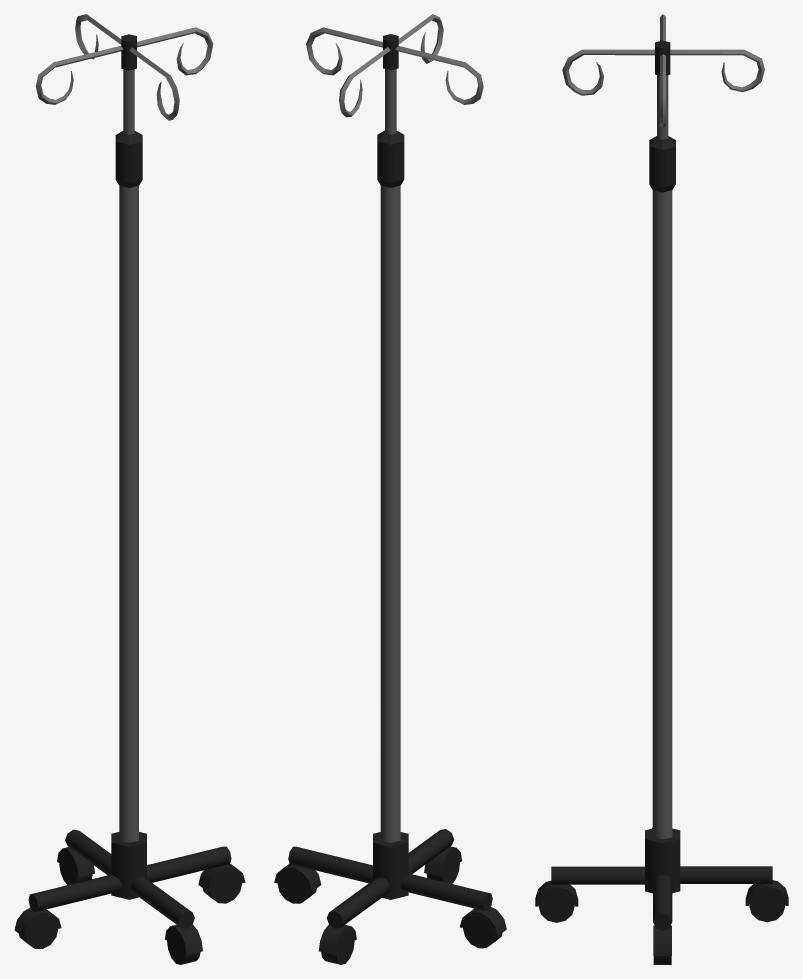
The model's file is infusion stand.FBX.
The picture shows the model from 3 angles, left to right: view 1: azimuth 30°, elevation 25°; view 2: azimuth 150°, elevation 25°; view 3: azimuth 270°, elevation 25°; orthographic projection.
Visible parts, largest first — view 1: infusion stand; view 2: infusion stand; view 3: infusion stand.
Boxes of the visible parts, <box> form: infusion stand: <box>14,14,245,964</box>; infusion stand: <box>274,14,506,964</box>; infusion stand: <box>535,14,788,964</box>.
Size of the model in its own units: 17.87 by 17.87 by 67.96.
